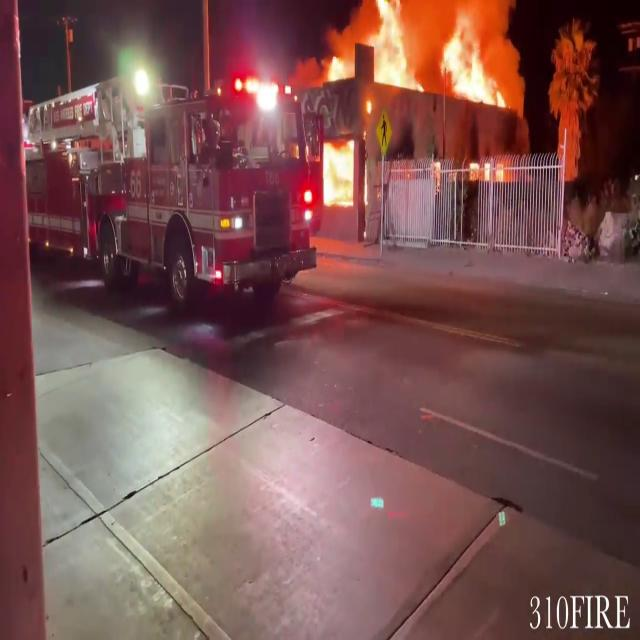Fire: (434, 5, 510, 109), (362, 0, 422, 98)
